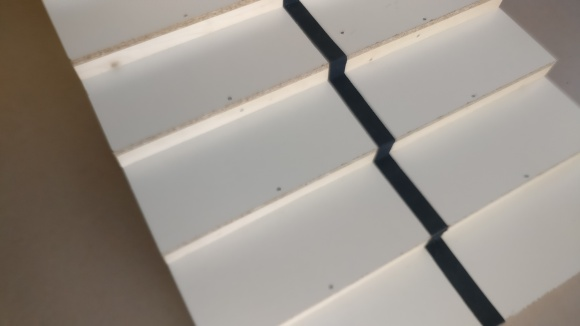stairs: (38, 1, 580, 325)
